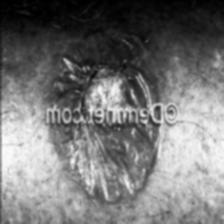Toxin: (47, 28, 165, 202)
